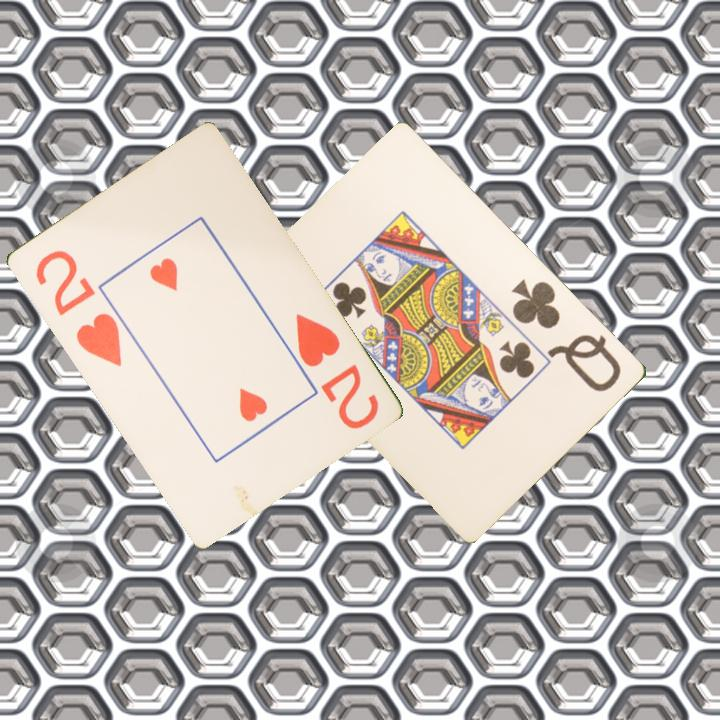2h: (31, 246, 125, 370), (291, 309, 382, 433)
Qc: (508, 275, 625, 395)
